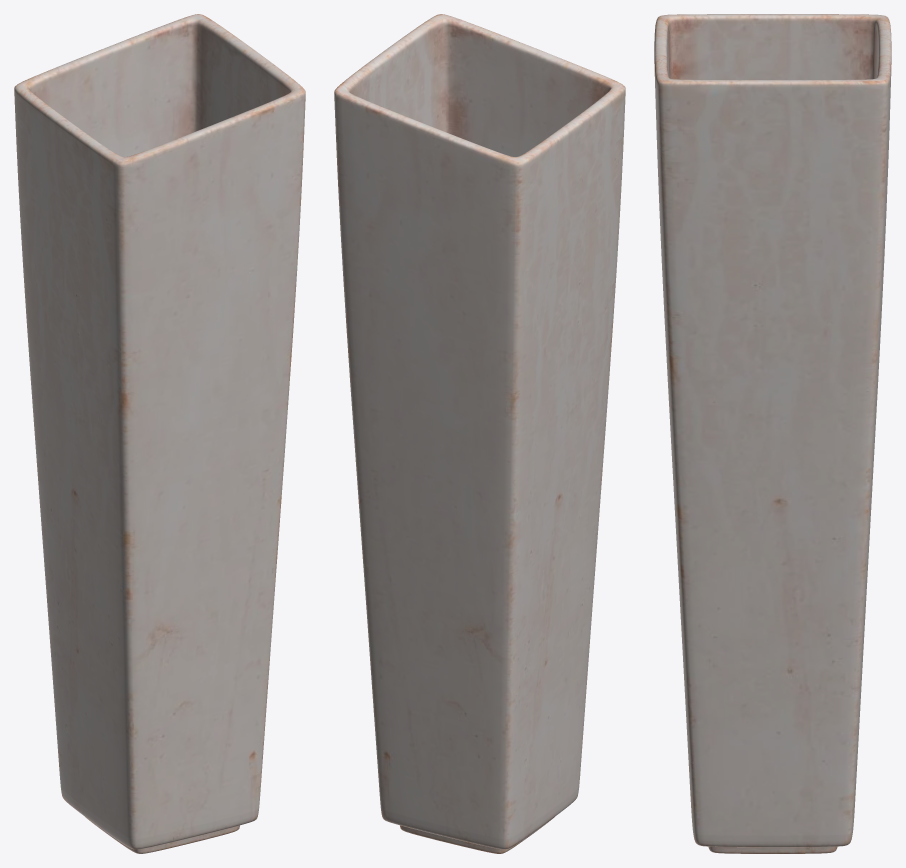
File: ceramic_vase_03.glb
3 renders of one model, left to right at view 1: azimuth 30°, elevation 25°; view 2: azimuth 150°, elevation 25°; view 3: azimuth 270°, elevation 25°, orthographic. The views are drawn at different scales.
Visible parts, largest first — view 1: ceramic_vase_03; view 2: ceramic_vase_03; view 3: ceramic_vase_03.
Part boxes in pixels (bbox=[...]): ceramic_vase_03: bbox=[14, 14, 305, 853]; ceramic_vase_03: bbox=[334, 14, 625, 853]; ceramic_vase_03: bbox=[654, 14, 891, 853].
Bounding box in the file's own units: 0.1123 × 0.4144 × 0.1123.
Materials: 1 (1 with a texture image).
